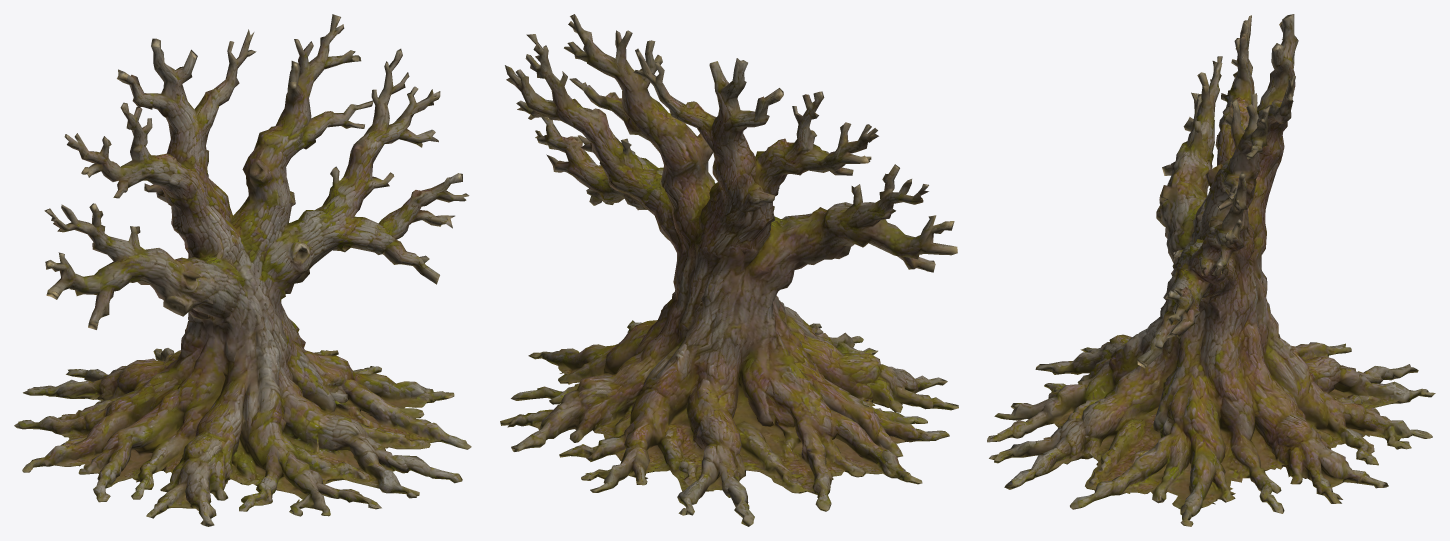
Rendered from land_oak_tripo.glb.
3 views of the same model, side by side, from view 1: azimuth 30°, elevation 25°; view 2: azimuth 150°, elevation 25°; view 3: azimuth 270°, elevation 25° (orthographic). The views are drawn at different scales.
Parts seen in each view (by area): view 1: tripo_node_0e36a074-9cba-40d9-9352-81ff023ec786; view 2: tripo_node_0e36a074-9cba-40d9-9352-81ff023ec786; view 3: tripo_node_0e36a074-9cba-40d9-9352-81ff023ec786.
Boxes of the visible parts, x1,y1,x2,y2 form: tripo_node_0e36a074-9cba-40d9-9352-81ff023ec786: [14, 14, 471, 526]; tripo_node_0e36a074-9cba-40d9-9352-81ff023ec786: [500, 14, 958, 526]; tripo_node_0e36a074-9cba-40d9-9352-81ff023ec786: [987, 14, 1435, 526].
Size of the model in its own units: 1 by 0.8849 by 0.9212.
1 material, 1 textured.
